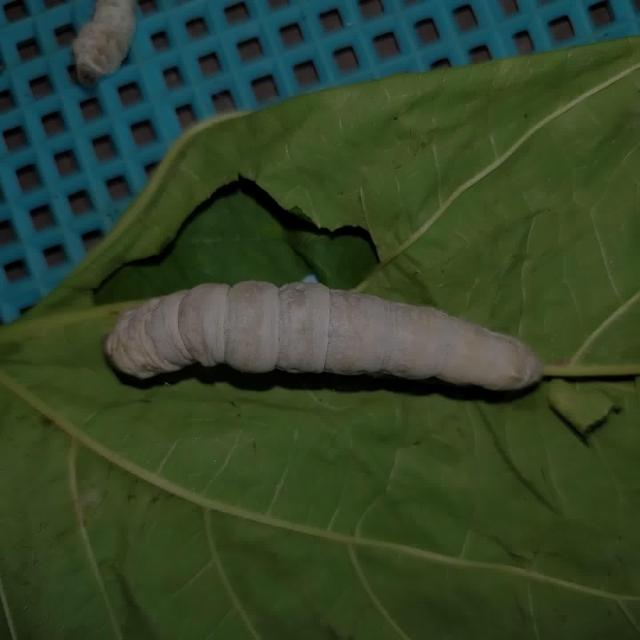Grasserie: (101, 255, 550, 418)
